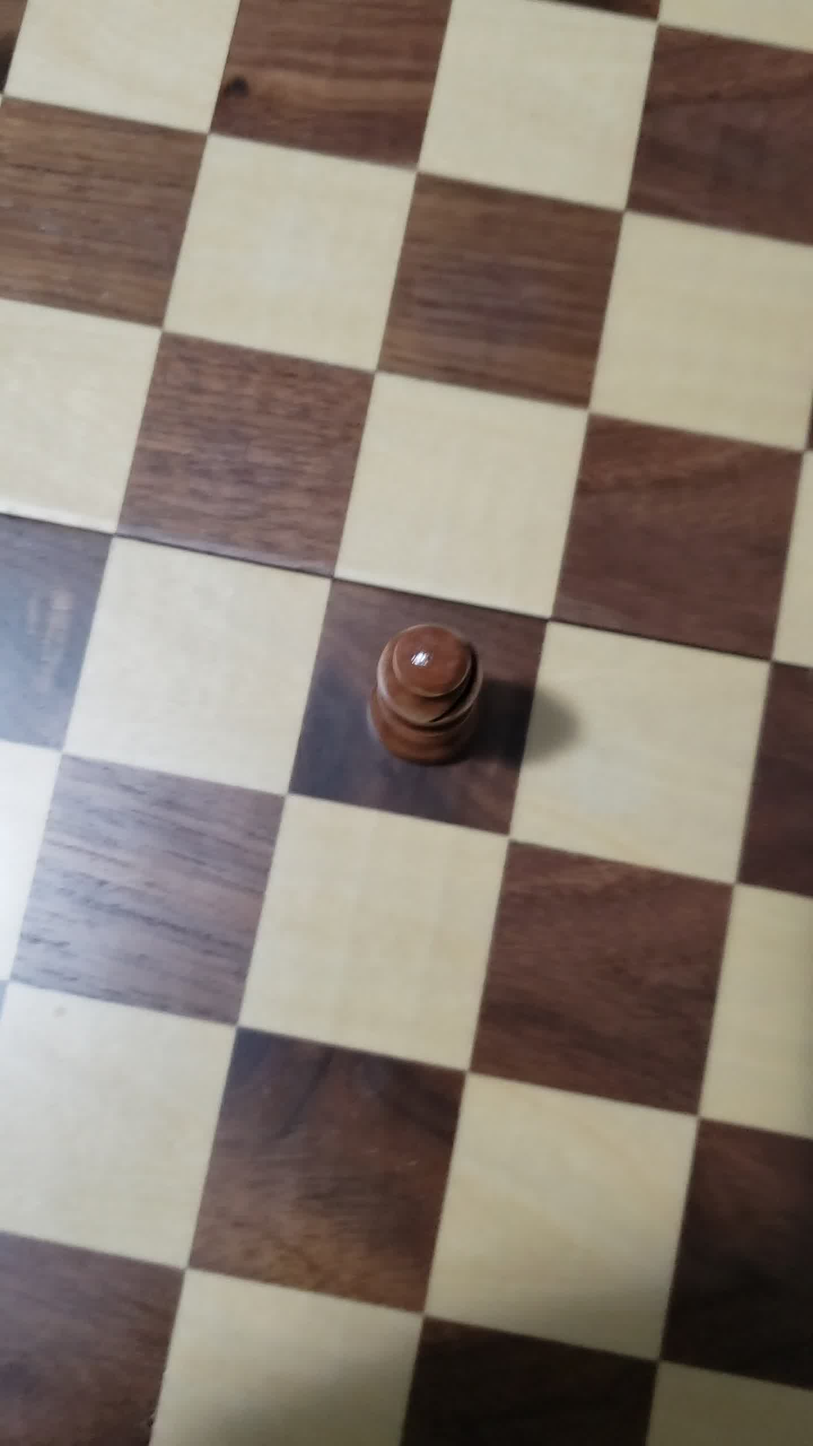black-bishop: (336, 611, 521, 784)
